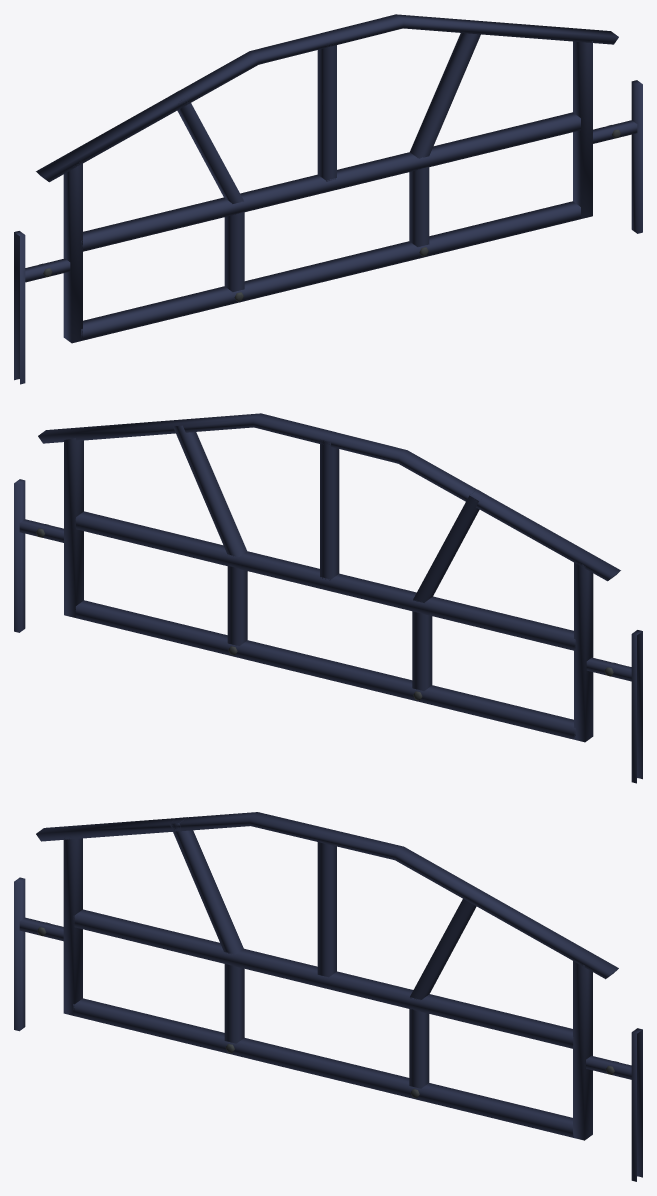
File: SM_Railings_220.fbx
3 renders of one model, top to bottom at view 1: azimuth 30°, elevation 25°; view 2: azimuth 150°, elevation 25°; view 3: azimuth 330°, elevation 25°, orthographic.
Parts seen in each view (by area): view 1: SM_Railings_220; view 2: SM_Railings_220; view 3: SM_Railings_220.
Part boxes in pixels (x1,y1,x2,y2): SM_Railings_220: [14, 14, 642, 384]; SM_Railings_220: [14, 413, 642, 783]; SM_Railings_220: [14, 812, 642, 1181].
Size of the model in its own units: 220 by 91.64 by 6.85.
1 material, 1 textured.
